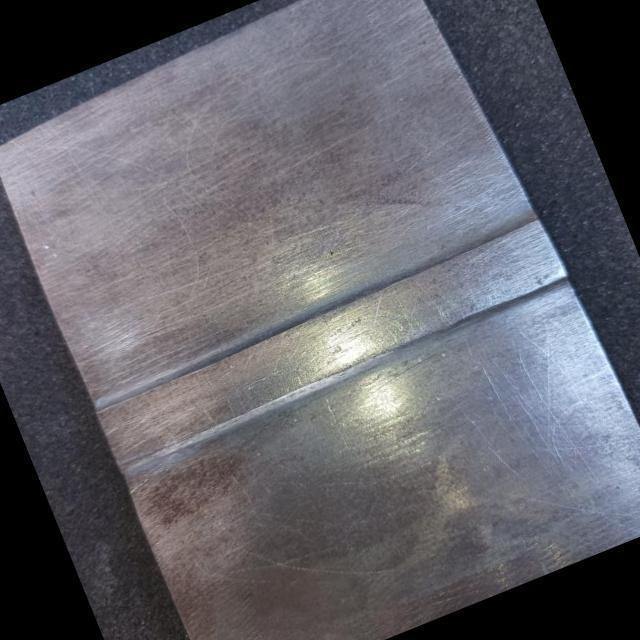defect: (240, 316, 400, 389)
